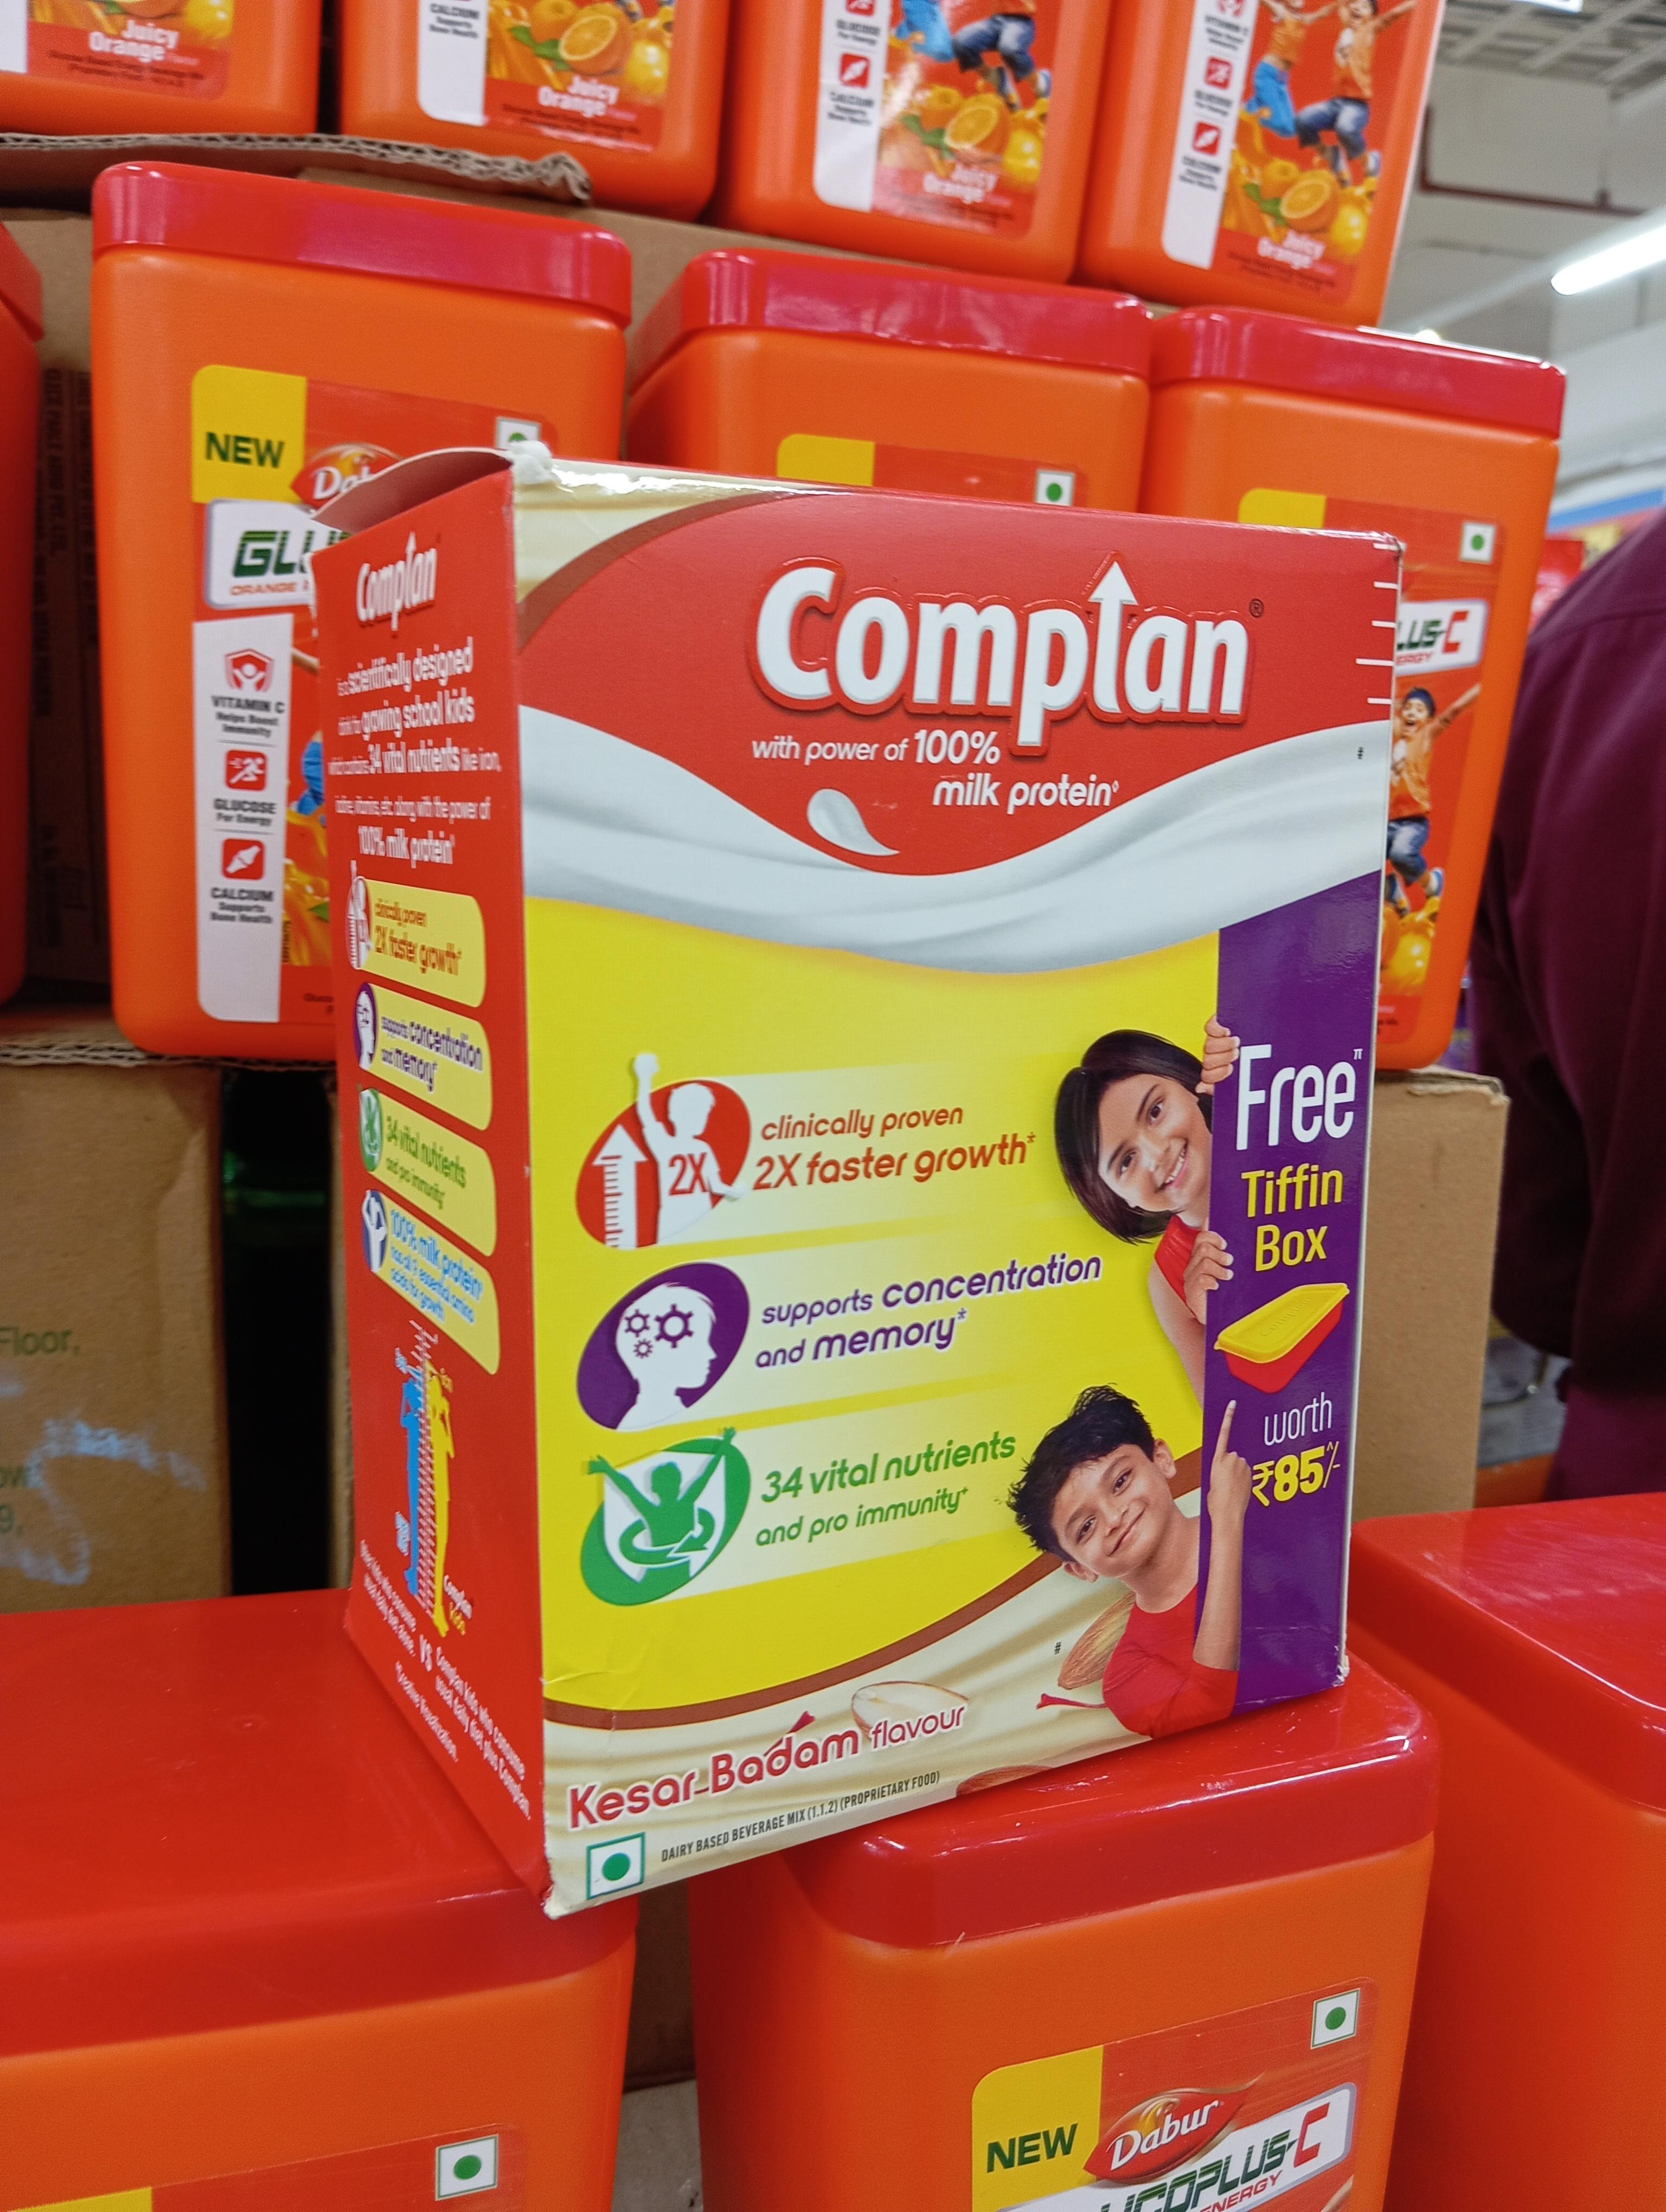COMPLAN_KESAR_BADAM_500_GMS_PACK: (515, 483, 1421, 1911)
